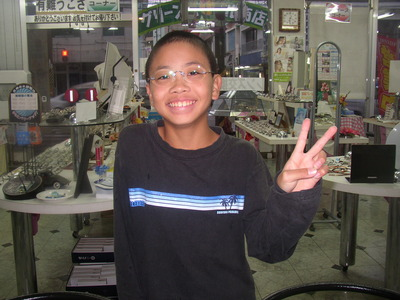face: (149, 41, 222, 127)
hand: (274, 117, 338, 193)
